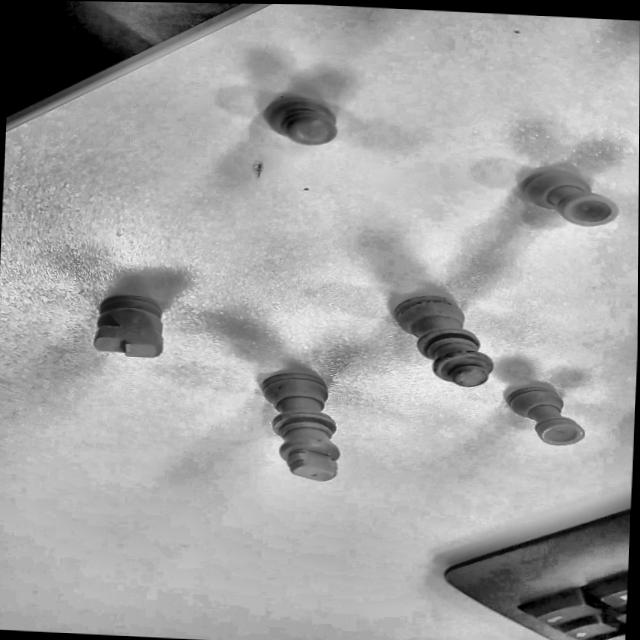white-king: (261, 372, 339, 481)
white-knight: (94, 293, 162, 357)
white-pawn: (260, 94, 338, 145)
white-queen: (393, 295, 492, 386)
white-rook: (519, 169, 617, 226), (506, 384, 583, 445)
